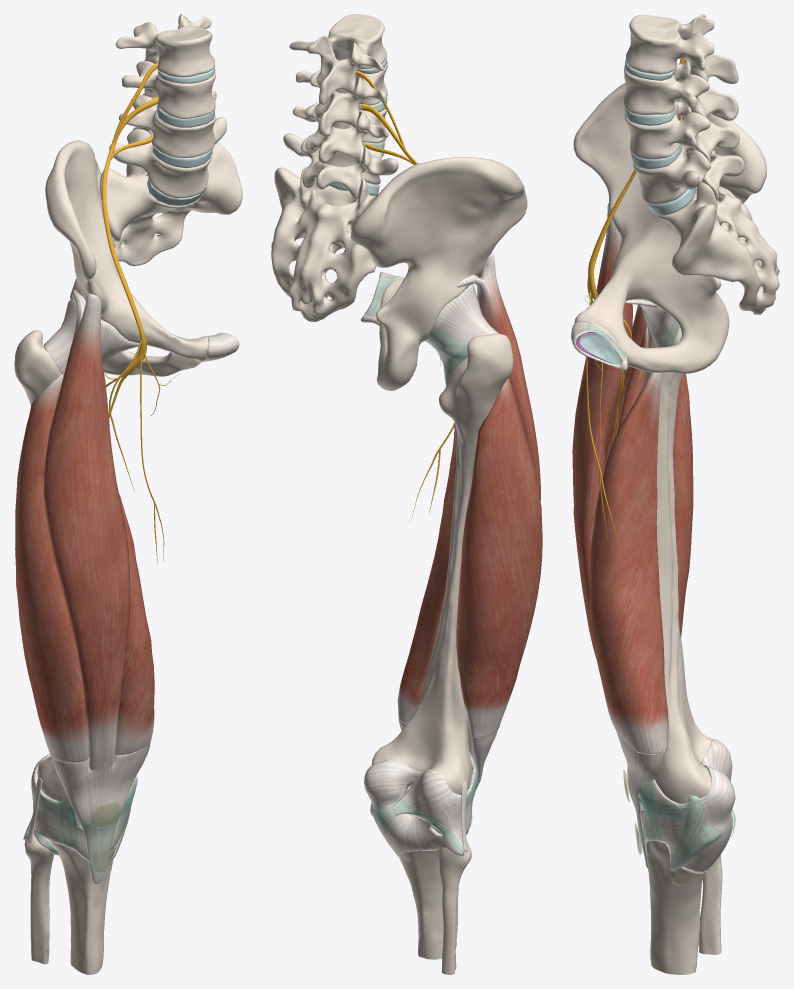
The model's file is muscles-anterior-thigh-extensors-knee.glb.
3 renders of one model, left to right at view 1: azimuth 30°, elevation 25°; view 2: azimuth 150°, elevation 25°; view 3: azimuth 270°, elevation 25°, orthographic. The views are drawn at different scales.
Parts seen in each view (by area): view 1: Rectus femoris.r, Vastus lateralis muscle.r, Hip bone.r, Sacrum, Quadriceps common tendon and patellar ligament.r, Vastus medialis muscle.r, Tibia.r, Lumbar vertebra (L2), Lumbar vertebra (L5), Articular capsule of knee joint.r, Femur.r, Lumbar vertebra (L3) (+11 smaller); view 2: Hip bone.r, Vastus lateralis muscle.r, Femur.r, Sacrum, Articular capsule of knee joint.r, Vastus medialis muscle.r, Lumbar vertebra (L2), Rectus femoris.r, Tibia.r, Lumbar vertebra (L5), Hip joint capsule.r, Lumbar vertebra (L4) (+6 smaller); view 3: Vastus medialis muscle.r, Hip bone.r, Femur.r, Sacrum, Rectus femoris.r, Articular capsule of knee joint.r, Tibia.r, Lumbar vertebra (L2), Vastus lateralis muscle.r, Lumbar vertebra (L3), Lumbar vertebra (L4), Lumbar vertebra (L5) (+14 smaller).
Part boxes in pixels (box(x1,y1,x2,y2)): Rectus femoris.r: box(43, 289, 130, 770); Vastus lateralis muscle.r: box(15, 374, 88, 762); Hip bone.r: box(45, 140, 208, 376); Sacrum: box(100, 142, 242, 266); Quadriceps common tendon and patellar ligament.r: box(51, 745, 150, 883); Vastus medialis muscle.r: box(115, 494, 154, 755); Tibia.r: box(49, 840, 117, 974); Lumbar vertebra (L2): box(115, 14, 214, 77); Lumbar vertebra (L5): box(109, 117, 226, 198); Articular capsule of knee joint.r: box(23, 754, 137, 861); Femur.r: box(14, 330, 66, 801); Lumbar vertebra (L3): box(122, 55, 215, 118); Hip bone.r: box(350, 157, 527, 390); Vastus lateralis muscle.r: box(456, 378, 542, 737); Femur.r: box(371, 333, 513, 794); Sacrum: box(271, 166, 376, 321); Articular capsule of knee joint.r: box(364, 752, 478, 857); Vastus medialis muscle.r: box(397, 422, 456, 723); Lumbar vertebra (L2): box(289, 14, 386, 104); Rectus femoris.r: box(456, 252, 540, 500); Tibia.r: box(399, 826, 458, 959); Lumbar vertebra (L5): box(283, 133, 398, 199); Hip joint capsule.r: box(425, 284, 498, 384); Lumbar vertebra (L4): box(292, 102, 388, 164); Vastus medialis muscle.r: box(589, 372, 668, 754); Hip bone.r: box(573, 81, 766, 373); Femur.r: box(644, 323, 712, 803); Sacrum: box(656, 150, 779, 314); Rectus femoris.r: box(572, 203, 632, 663); Articular capsule of knee joint.r: box(639, 739, 735, 873); Tibia.r: box(646, 841, 705, 974); Lumbar vertebra (L2): box(626, 14, 738, 83); Vastus lateralis muscle.r: box(604, 304, 693, 638); Lumbar vertebra (L3): box(623, 59, 738, 120); Lumbar vertebra (L4): box(624, 101, 739, 163); Lumbar vertebra (L5): box(633, 145, 744, 205).
Size of the model in its own units: 0.2204 by 0.8007 by 0.1528.
23 materials, 5 textured.
